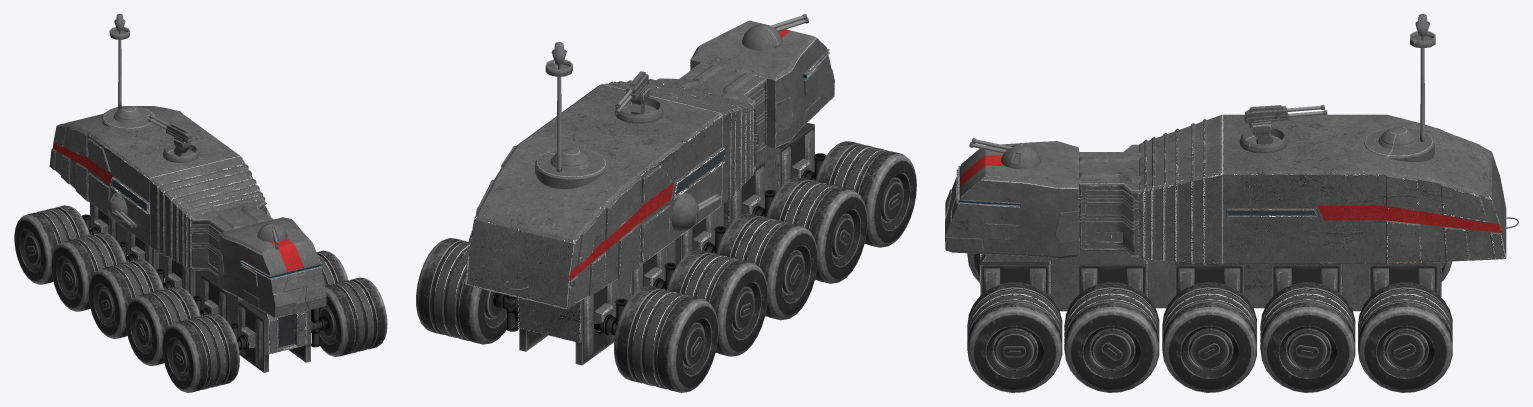
3 renders of one model, left to right at view 1: azimuth 30°, elevation 25°; view 2: azimuth 150°, elevation 25°; view 3: azimuth 270°, elevation 25°, orthographic. The views are drawn at different scales.
Parts seen in each view (by area): view 1: MainBody, Cockpit, Wheel001, Wheel007, Wheel004, Wheel003, Wheel005, Wheel002, MiddleBase002, MiddleBase001, WheelPlate001, TurretBaseBig (×2) (+11 smaller); view 2: MainBody, Wheel005, Cockpit, Wheel003, Wheel002, Wheel006, Wheel004, Wheel001, MiddleBase001, MiddleBase002, Communication, WheelPlate010 (+9 smaller); view 3: MainBody, Cockpit, Wheel007, Wheel008, Wheel010, Wheel006, Wheel009, MiddleBase001, MiddleBase002, Communication, TurretBaseBig (×2), WheelPlate002 (+6 smaller).
Boxes of the visible parts, x1,y1,x2,y2 form: MainBody: [49, 106, 265, 268]; Cockpit: [217, 217, 326, 318]; Wheel001: [162, 313, 239, 392]; Wheel007: [311, 277, 387, 356]; Wheel004: [51, 232, 126, 311]; Wheel003: [88, 259, 163, 338]; Wheel005: [14, 205, 89, 284]; Wheel002: [125, 286, 200, 365]; MiddleBase002: [189, 200, 273, 276]; MiddleBase001: [90, 203, 306, 354]; WheelPlate001: [238, 300, 268, 372]; TurretBaseBig (×2): [162, 123, 198, 162]; MainBody: [464, 79, 753, 309]; Wheel005: [614, 286, 718, 392]; Cockpit: [690, 20, 834, 149]; Wheel003: [716, 213, 817, 320]; Wheel002: [766, 177, 867, 283]; Wheel006: [416, 238, 506, 344]; Wheel004: [666, 250, 767, 356]; Wheel001: [815, 141, 916, 247]; MiddleBase001: [518, 123, 807, 342]; MiddleBase002: [656, 62, 767, 171]; Communication: [535, 148, 606, 189]; WheelPlate010: [575, 280, 617, 365]; MainBody: [1138, 114, 1506, 264]; Cockpit: [945, 141, 1079, 258]; Wheel007: [967, 282, 1062, 392]; Wheel008: [1064, 282, 1159, 392]; Wheel010: [1260, 282, 1355, 392]; Wheel006: [1358, 282, 1452, 392]; Wheel009: [1162, 282, 1256, 392]; MiddleBase001: [980, 251, 1445, 311]; MiddleBase002: [1079, 144, 1141, 258]; Communication: [1364, 127, 1434, 161]; TurretBaseBig (×2): [1239, 105, 1288, 153]; WheelPlate002: [980, 261, 1049, 295].
Size of what is drawn, in the model's own units: 307 by 364 by 596.
17 materials, 17 textured.
